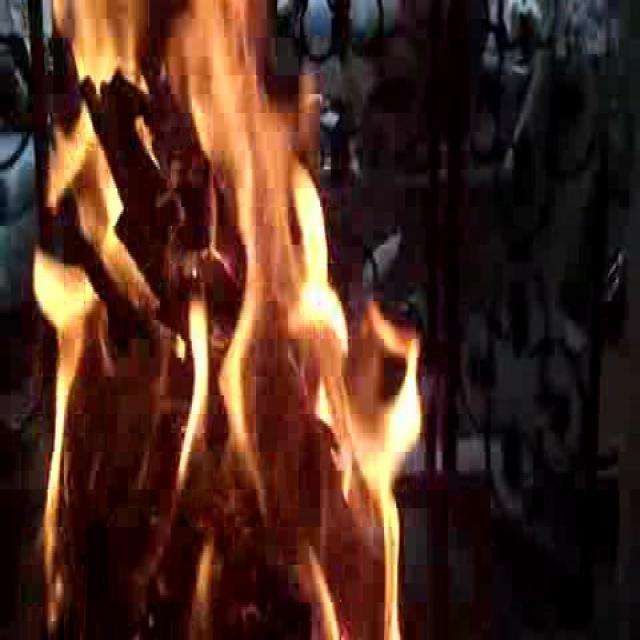Fire: (39, 9, 412, 634)
